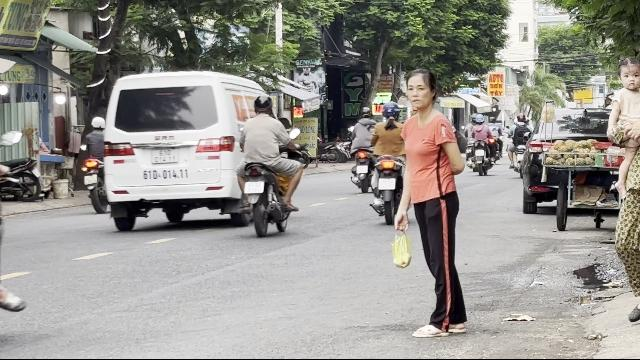helmet: (252, 93, 272, 114), (382, 101, 401, 121)
licenseplate: (245, 183, 263, 194), (379, 178, 395, 189)
motorcyclist: (234, 92, 304, 236), (369, 100, 407, 224)
